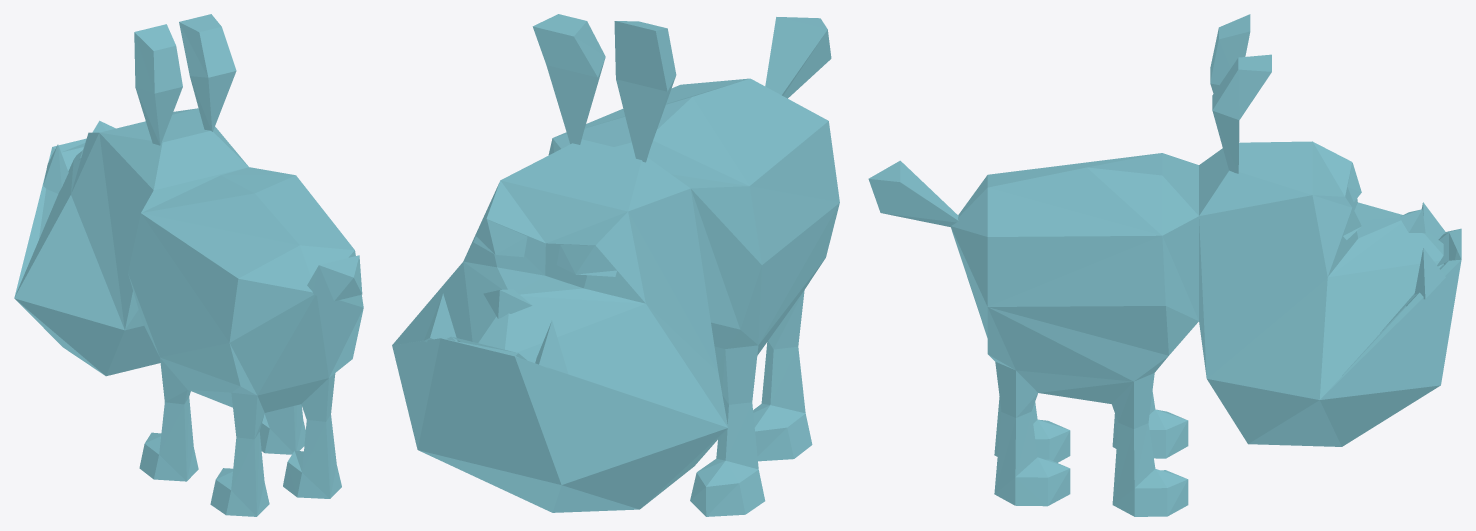
Rendered from humpstop.glb.
3 renders of one model, left to right at view 1: azimuth 30°, elevation 25°; view 2: azimuth 150°, elevation 25°; view 3: azimuth 270°, elevation 25°, orthographic. The views are drawn at different scales.
Parts seen in each view (by area): view 1: humpstop; view 2: humpstop; view 3: humpstop.
Part boxes in pixels (box(x1,y1,x2,y2)): humpstop: box(14, 14, 363, 516); humpstop: box(392, 14, 839, 516); humpstop: box(868, 14, 1461, 516).
Bounding box in the file's own units: 81.45 × 118 × 145.
